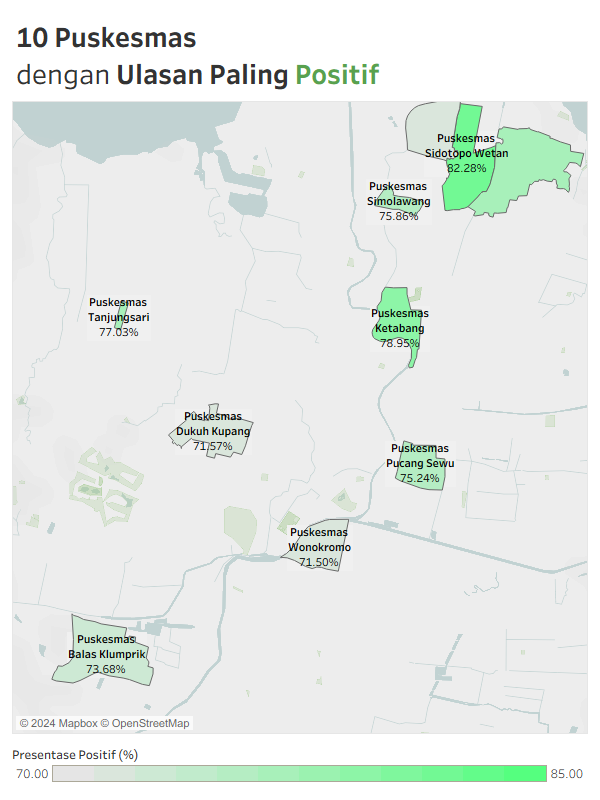

The dashboard page shown, as its layout file describes it:
{"tool":"tableau","page":{"name":"Positive Dashboard","canvas":[600,800],"ordinal":2},"visuals":[{"type":"worksheet","title":"Top 10 Positive","mark":"Multipolygon","box":[8,8,584,730]},{"type":"legend","title":"Top 10 Positive","param":"[federated.09djcg00jpvf8a11wlj1g0byvxj0].[none:positive_percentage:qk]","box":[8,738,584,54]}]}

Visuals, with their boxes in screenshot pixels (x1, y1, x2, y2), scaled from the page's 600x800 canvas onto the 600x800 screenshot:
"Top 10 Positive" worksheet (Multipolygon marks): 8/8/592/738
"Top 10 Positive" legend: 8/738/592/792
